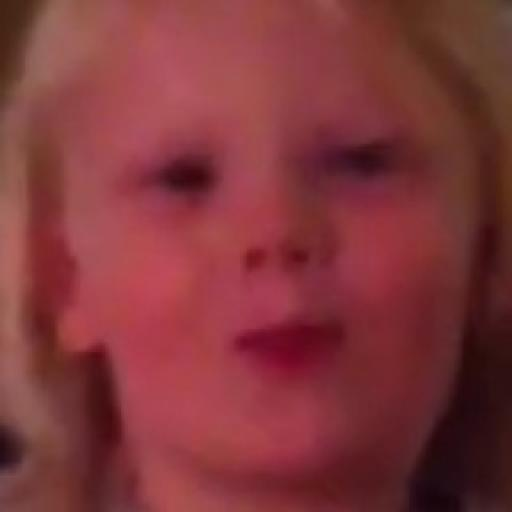Autism: (23, 12, 492, 490)
